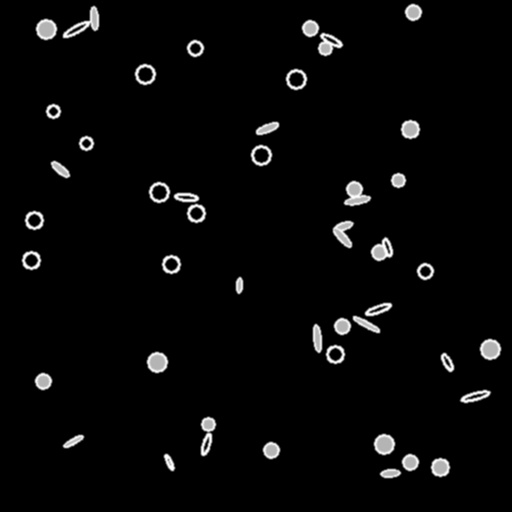pseudomonas: (62, 19, 90, 39), (331, 225, 353, 249), (352, 315, 380, 333), (460, 389, 490, 403), (365, 301, 391, 317), (50, 160, 70, 178), (320, 32, 342, 48), (199, 432, 213, 456), (256, 121, 278, 135), (63, 434, 83, 448), (440, 353, 454, 371), (345, 195, 369, 205), (333, 220, 353, 232), (313, 324, 321, 352), (163, 453, 175, 471), (90, 6, 98, 30), (382, 238, 392, 256), (175, 193, 197, 201), (380, 469, 400, 477), (236, 277, 242, 293)
synechocystis: (150, 183, 168, 201), (481, 340, 499, 358), (136, 65, 154, 83), (148, 353, 166, 371), (37, 20, 55, 38), (252, 146, 270, 164), (375, 435, 393, 453), (287, 70, 305, 88), (163, 256, 179, 272), (188, 205, 204, 221), (26, 212, 42, 228), (327, 346, 343, 362), (402, 121, 418, 137), (432, 459, 448, 475), (23, 252, 39, 268), (303, 21, 317, 35), (406, 5, 420, 19), (36, 374, 50, 388), (372, 245, 386, 259), (418, 264, 432, 278), (403, 455, 417, 469), (347, 182, 361, 196), (335, 319, 349, 333), (188, 41, 202, 55), (264, 443, 278, 457), (47, 105, 59, 117), (202, 418, 214, 430), (80, 137, 92, 149), (319, 42, 331, 54), (392, 174, 404, 186)
